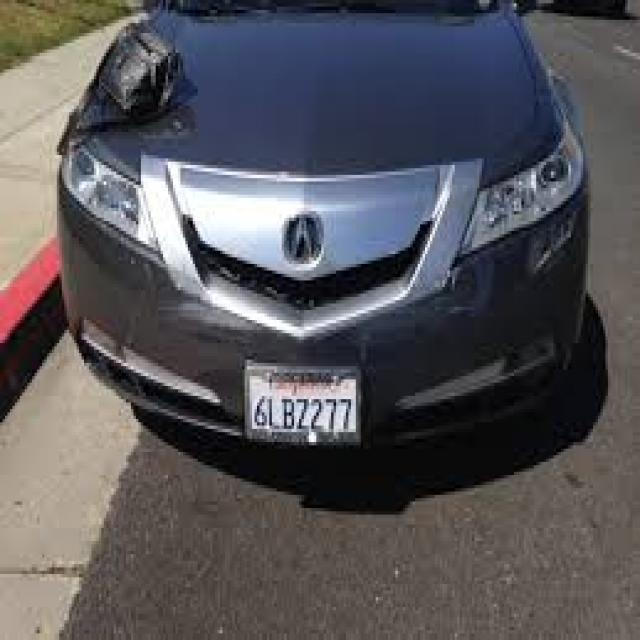minor: (59, 3, 294, 270)
